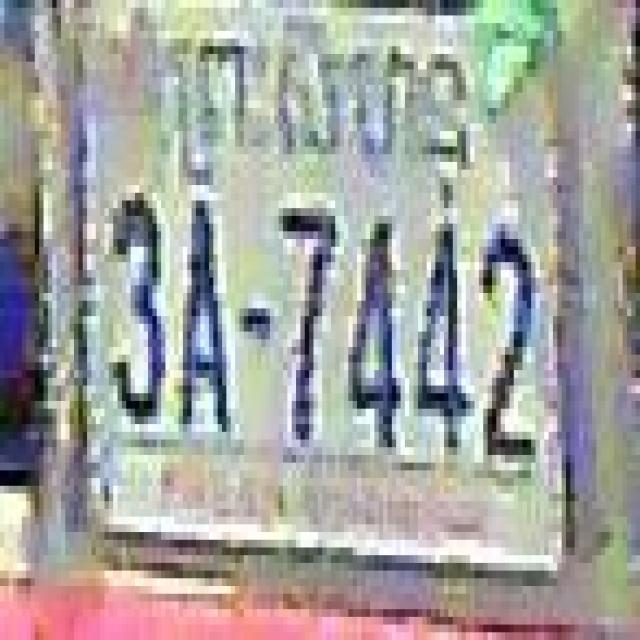Preah_Sihanouk: (170, 16, 472, 205)
